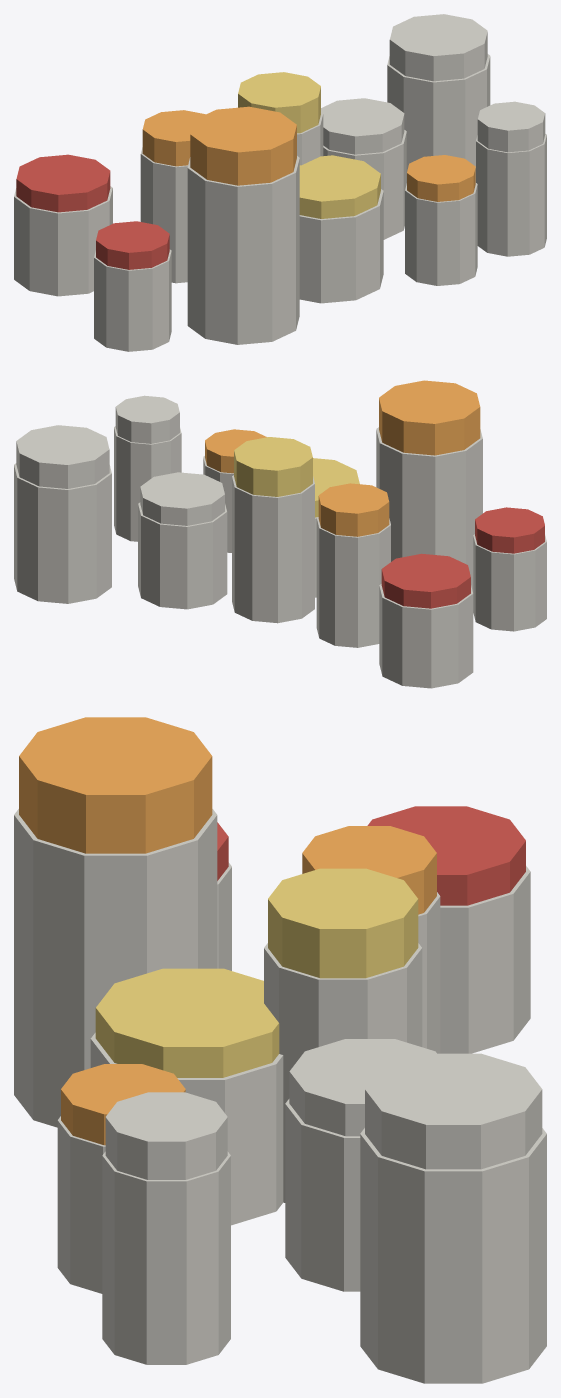
Rendered from pill_bottles.fbx.
The picture shows the model from 3 angles, top to bottom: view 1: azimuth 30°, elevation 25°; view 2: azimuth 150°, elevation 25°; view 3: azimuth 270°, elevation 25°; orthographic projection. The views are drawn at different scales.
Parts seen in each view (by area): view 1: pill_bottles; view 2: pill_bottles; view 3: pill_bottles.
Boxes of the visible parts, x1,y1,x2,y2 form: pill_bottles: (14, 14, 546, 351); pill_bottles: (14, 380, 546, 688); pill_bottles: (14, 717, 546, 1383).
Bounding box in the file's own units: 39.11 × 15.4 × 21.94.
